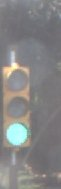Green: (1, 61, 36, 162)
